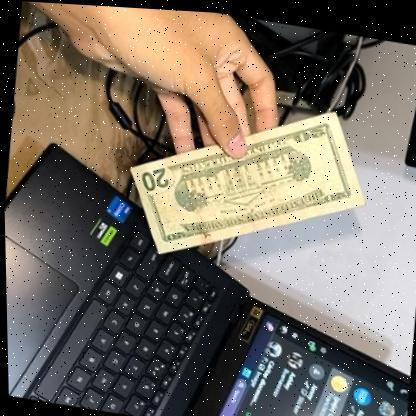dollar_back: (119, 77, 374, 283)
